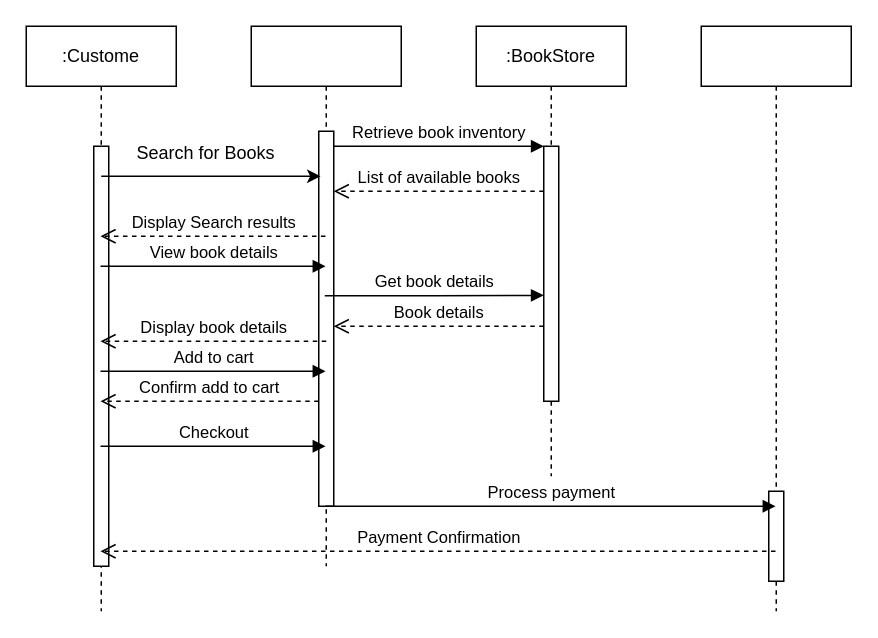
This 878x638 diagram has some shape labels left out. Here are the shapes that lost their labels. From the top down, the box of each, then its label:
(250, 25, 401, 566): :Website
(700, 25, 851, 611): :Payment
